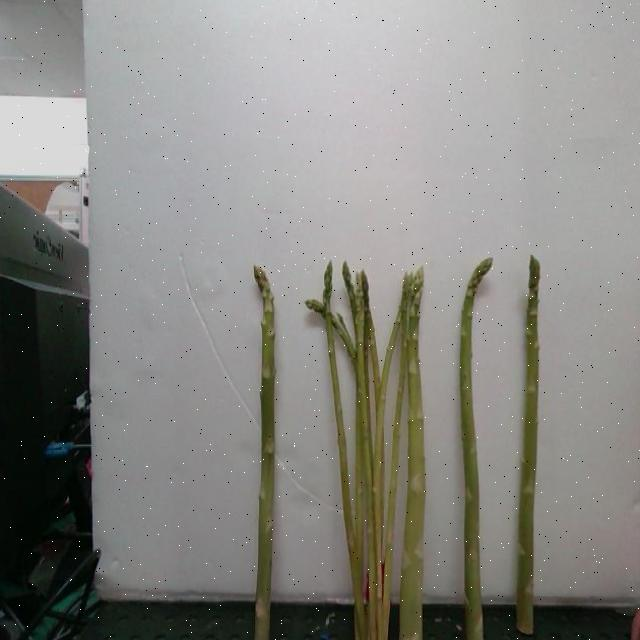aspargus: (253, 269, 276, 640)
